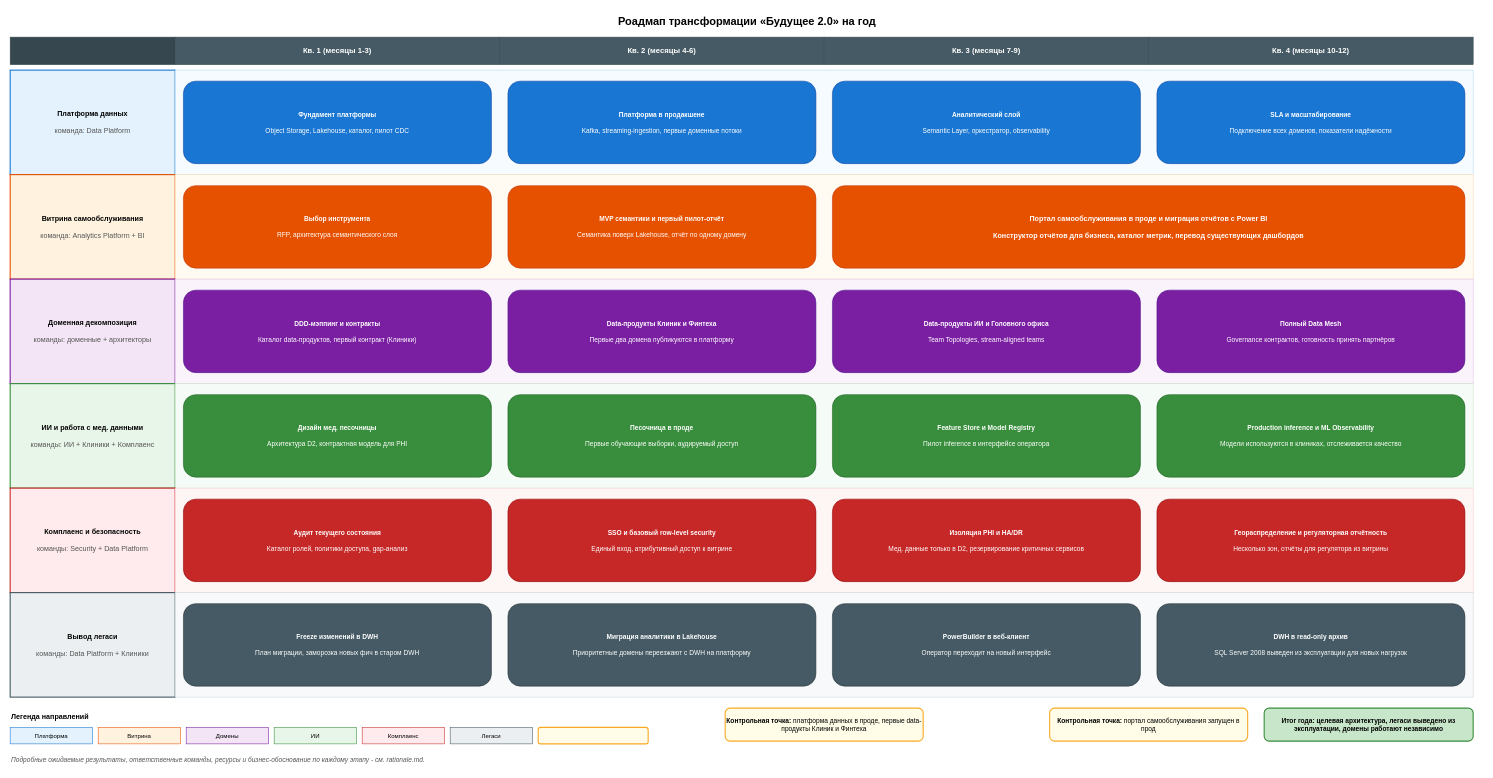
Some shapes in this 1493 by 778 pixel diagram are drawn without their labels. Here are the shapes that lost their labels. From the top down, the box of each, then its label:
(10, 37, 175, 65): Направления
(537, 727, 648, 744): Контрольная точка
